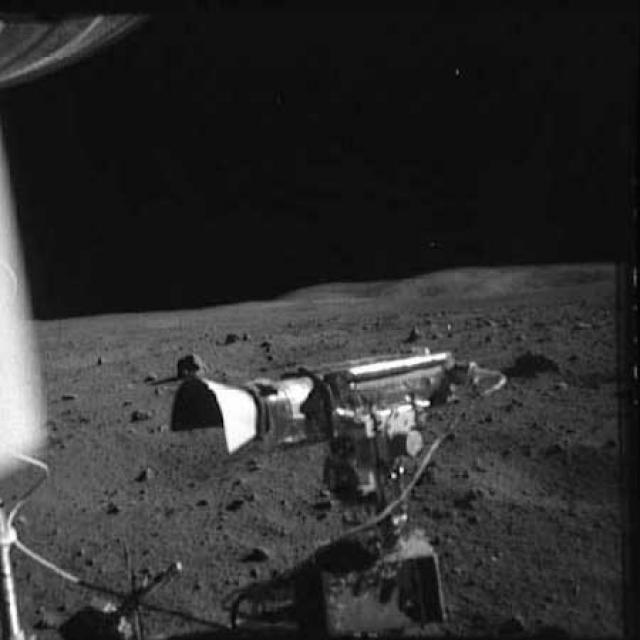crater: (29, 424, 240, 526), (464, 435, 628, 519), (52, 333, 166, 374)
rock: (515, 349, 562, 376), (174, 349, 206, 382), (227, 487, 260, 515), (139, 456, 163, 484), (38, 605, 62, 629), (104, 495, 127, 520), (221, 328, 249, 346), (57, 388, 85, 406), (550, 376, 576, 394), (132, 404, 154, 425), (568, 318, 596, 334), (248, 540, 268, 562), (258, 337, 282, 352), (408, 325, 427, 343), (144, 368, 161, 383), (511, 330, 529, 344)
